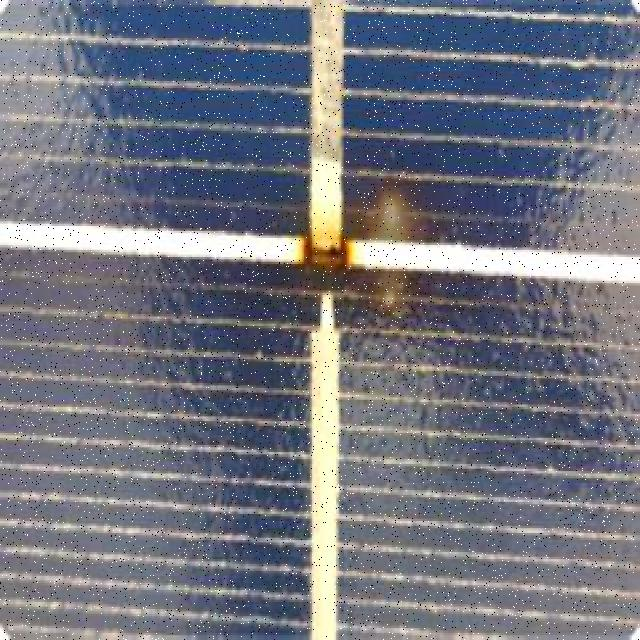electrical damage: (187, 119, 432, 354)
